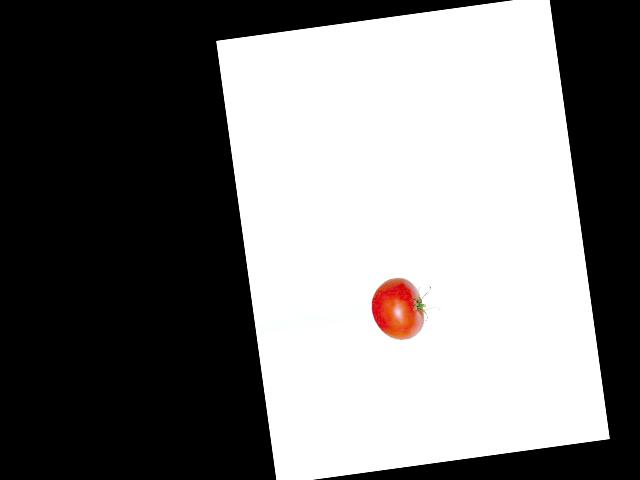tomato: (368, 275, 426, 343)
